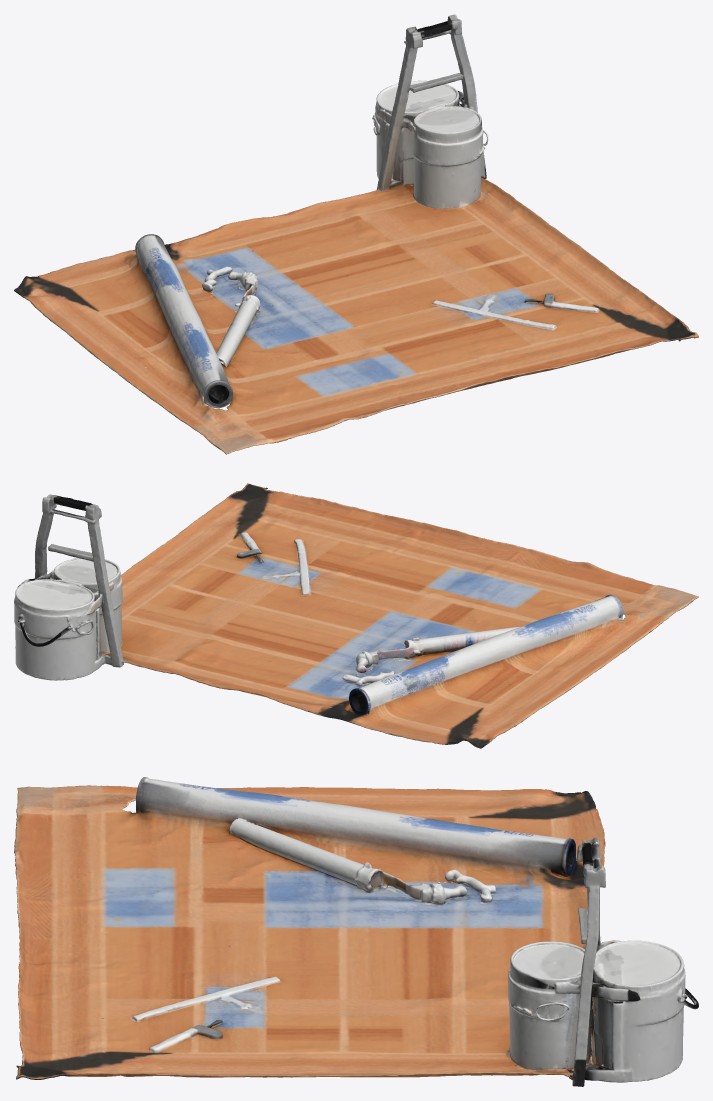
The model's file is furniture.glb.
3 renders of one model, top to bottom at view 1: azimuth 30°, elevation 25°; view 2: azimuth 150°, elevation 25°; view 3: azimuth 270°, elevation 25°, orthographic. The views are drawn at different scales.
Size of the model in its own units: 62380 by 20197 by 60621.
Materials: 1 (1 with a texture image).
